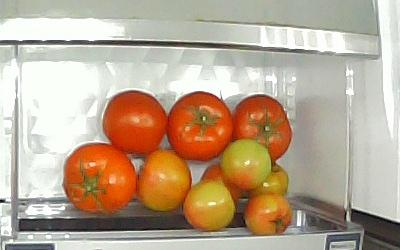tomato: (63, 142, 137, 214), (168, 91, 234, 161), (102, 90, 169, 158), (233, 94, 293, 164), (137, 150, 193, 212), (182, 180, 236, 232), (223, 139, 271, 190), (244, 193, 295, 237), (201, 164, 242, 202), (256, 164, 289, 196)
